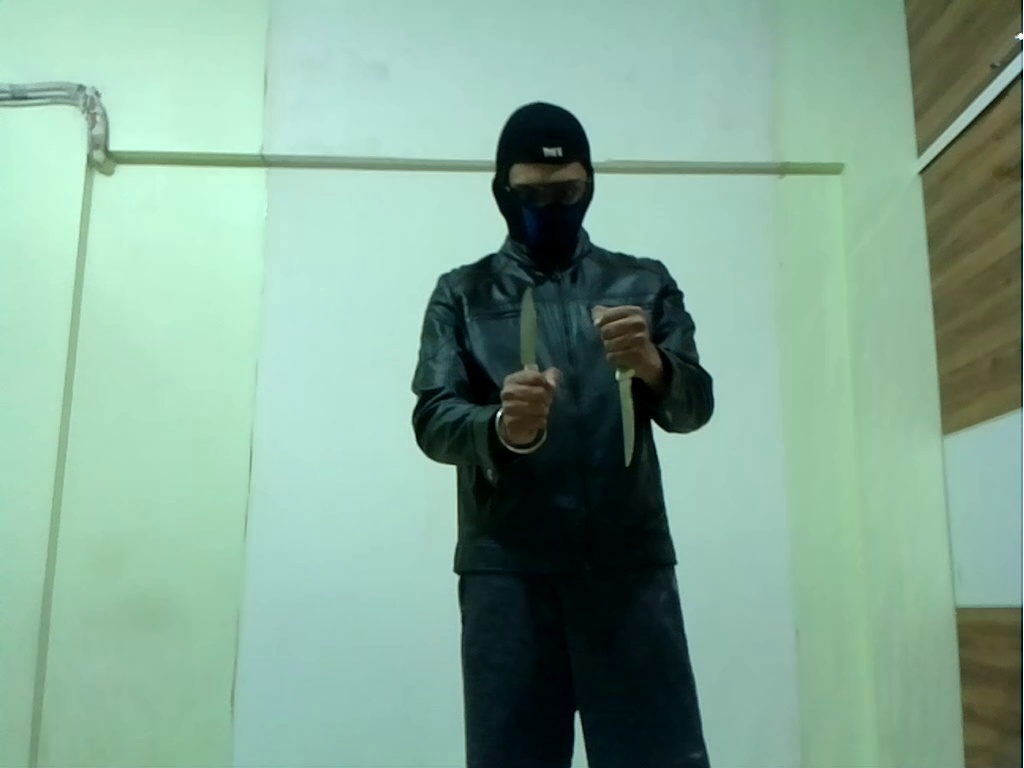knife: (603, 321, 646, 469), (510, 282, 546, 380)
